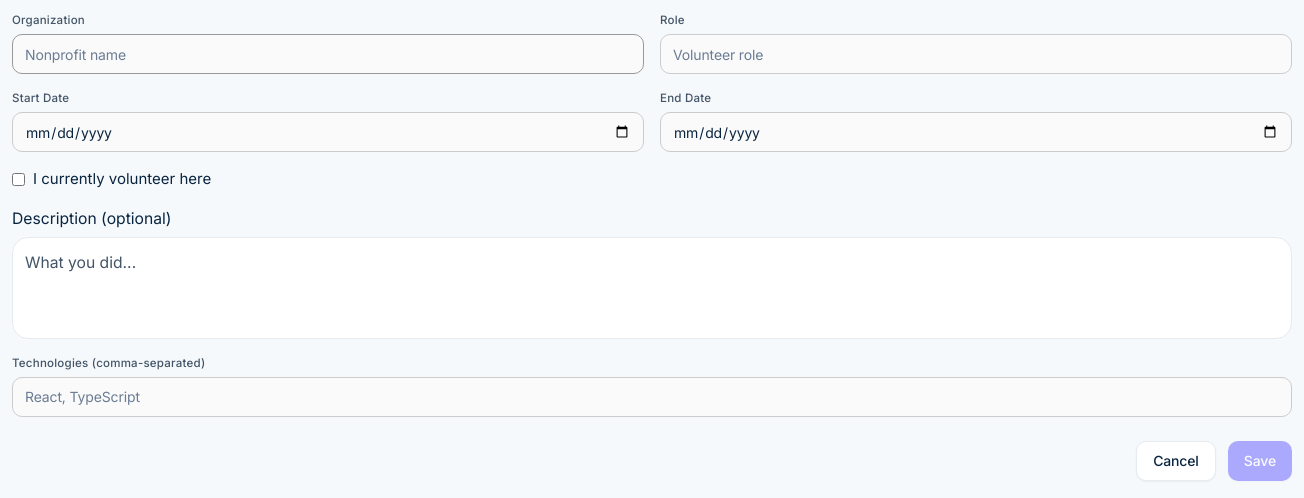
Test: VolunteeringForm › disables end date when current is checked
Click the text "I currently volunteer here".
click(122, 179)  # box left=33, top=168, right=211, bottom=190
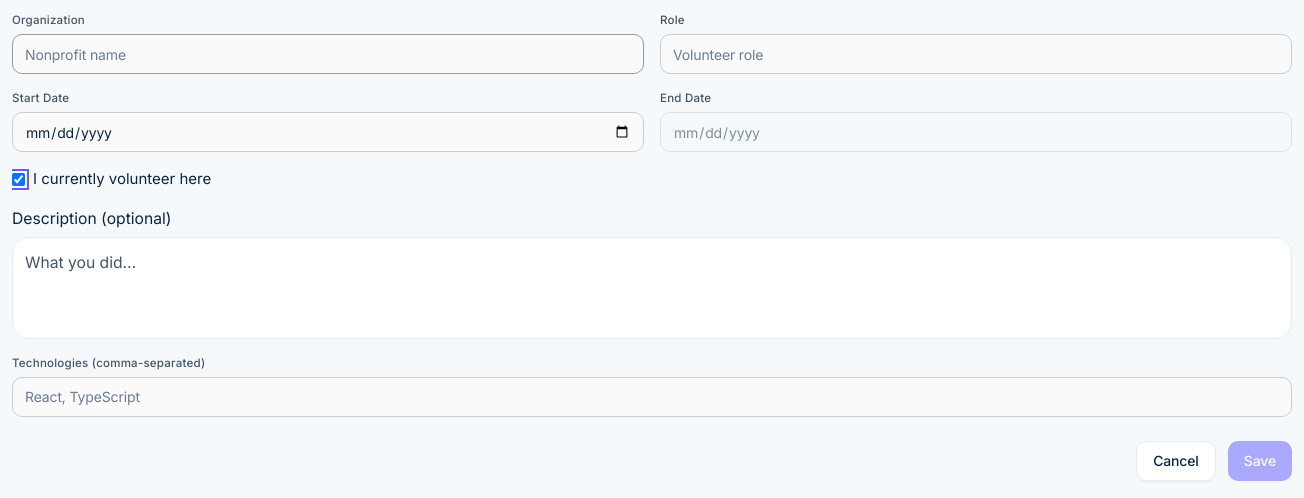
Expected: the date field labelled "End Date" is disabled, left=660, top=112, right=1292, bottom=152
